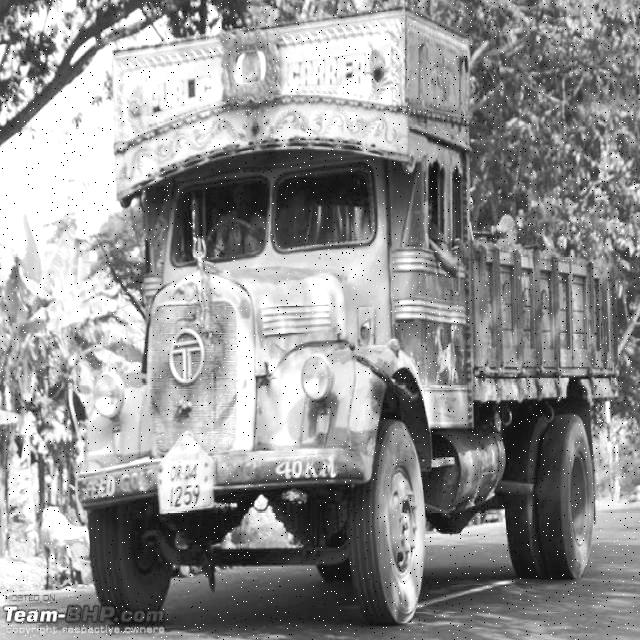HCV: (55, 6, 625, 605)
